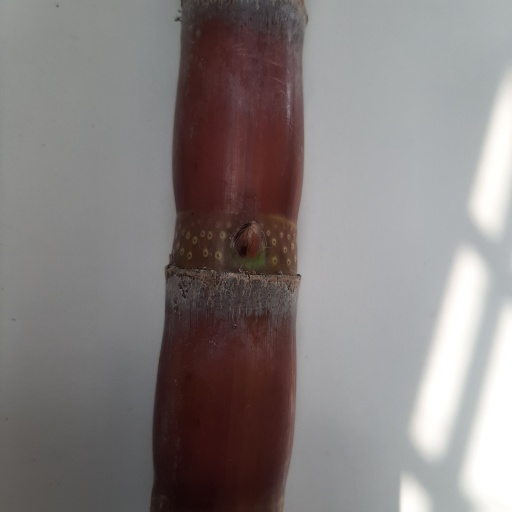Bud: (233, 219, 268, 264)
